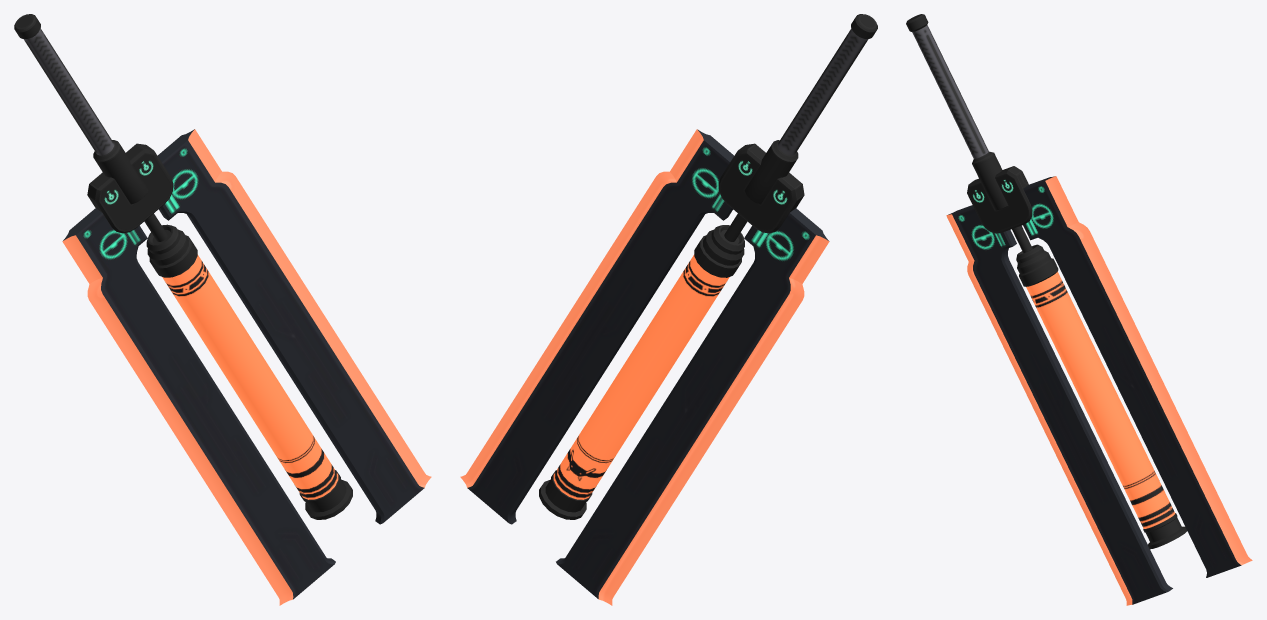
The model's file is sword.glb.
The picture shows the model from 3 angles, left to right: view 1: azimuth 30°, elevation 25°; view 2: azimuth 150°, elevation 25°; view 3: azimuth 330°, elevation 25°; orthographic projection. The views are drawn at different scales.
Parts seen in each view (by area): view 1: sword; view 2: sword; view 3: sword.
Part boxes in pixels (x1=…): sword: x1=14, y1=14, x2=431, y2=605; sword: x1=460, y1=14, x2=877, y2=605; sword: x1=906, y1=14, x2=1252, y2=605.
Size of the model in its own units: 1.2 by 1.79 by 0.1285.
1 material, 1 textured.
